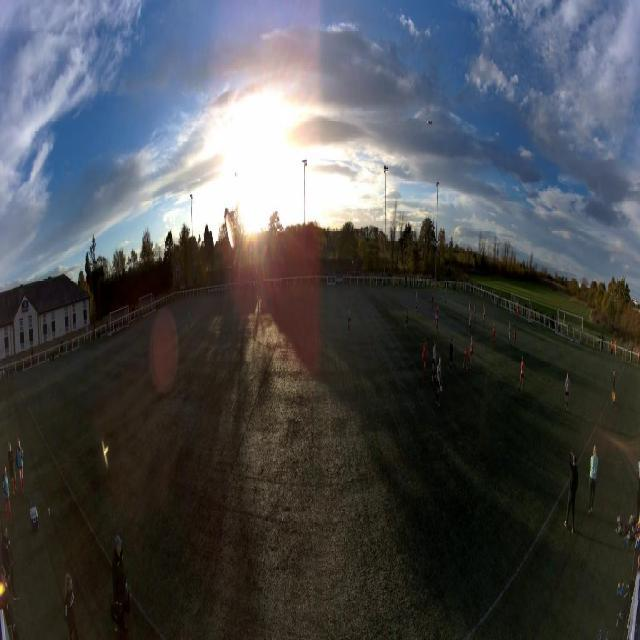ball: (440, 385, 443, 392)
player: (436, 358, 443, 410), (422, 337, 428, 379), (564, 372, 570, 411), (431, 340, 437, 378), (518, 356, 524, 392), (449, 337, 454, 375), (469, 337, 474, 369), (347, 303, 351, 333), (463, 347, 468, 369), (435, 305, 439, 332), (406, 304, 410, 328), (188, 308, 192, 332), (508, 323, 512, 345), (493, 322, 496, 349), (469, 312, 472, 337), (514, 325, 517, 349), (483, 305, 486, 327), (474, 302, 477, 321), (516, 305, 519, 322), (469, 300, 471, 320), (415, 292, 417, 311), (431, 293, 433, 311), (444, 290, 446, 306)
